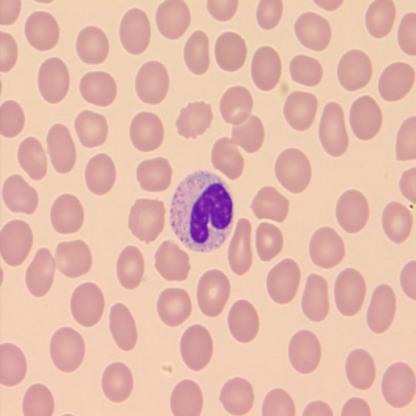Band Neutrophil: (166, 167, 236, 255)
